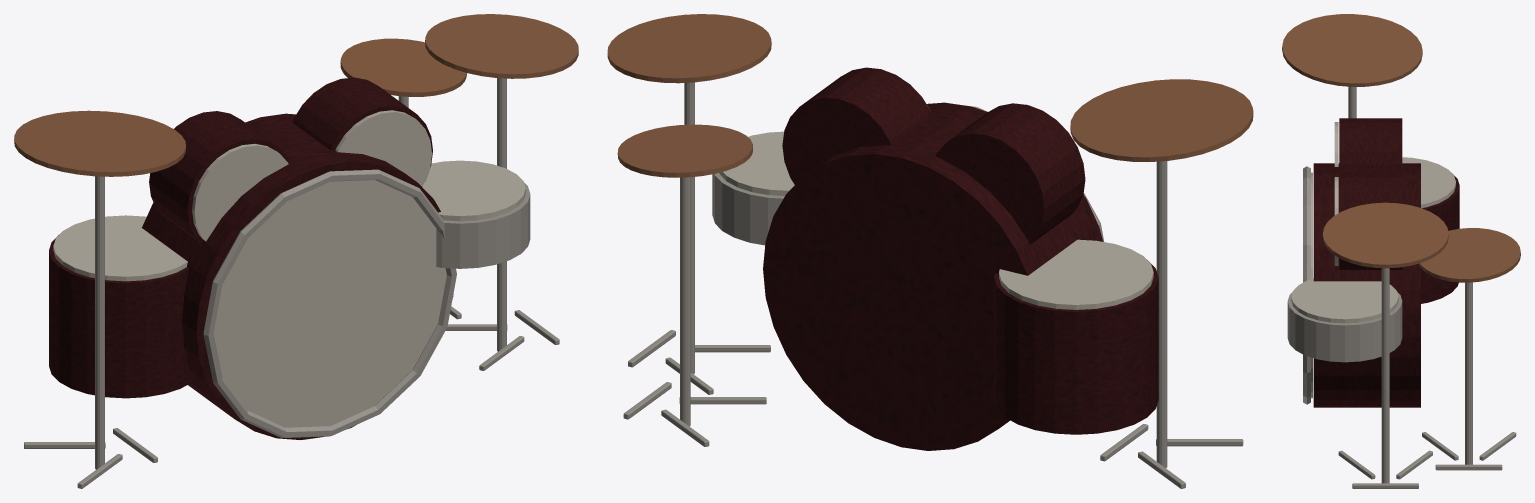
File: basement-drum-kit.glb
3 views of the same model, side by side, from view 1: azimuth 30°, elevation 25°; view 2: azimuth 150°, elevation 25°; view 3: azimuth 270°, elevation 25° (orthographic). The views are drawn at different scales.
Visible parts, largest first — view 1: SM_lonely_basement_drum_kit_Fabric_DirtyDrumHead, SM_lonely_basement_drum_kit_Metal_DrumBurgundy, SM_lonely_basement_drum_kit_Metal_OxidizedCopper, SM_lonely_basement_drum_kit_Metal_DullChrome; view 2: SM_lonely_basement_drum_kit_Metal_DrumBurgundy, SM_lonely_basement_drum_kit_Metal_OxidizedCopper, SM_lonely_basement_drum_kit_Metal_DullChrome, SM_lonely_basement_drum_kit_Fabric_DirtyDrumHead; view 3: SM_lonely_basement_drum_kit_Metal_OxidizedCopper, SM_lonely_basement_drum_kit_Metal_DrumBurgundy, SM_lonely_basement_drum_kit_Metal_DullChrome, SM_lonely_basement_drum_kit_Fabric_DirtyDrumHead.
Boxes of the visible parts, x1,y1,x2,y2 form: SM_lonely_basement_drum_kit_Fabric_DirtyDrumHead: (53,110,525,427); SM_lonely_basement_drum_kit_Metal_DrumBurgundy: (49,77,453,439); SM_lonely_basement_drum_kit_Metal_OxidizedCopper: (14,14,578,176); SM_lonely_basement_drum_kit_Metal_DullChrome: (24,78,559,488); SM_lonely_basement_drum_kit_Metal_DrumBurgundy: (763,67,1158,450); SM_lonely_basement_drum_kit_Metal_OxidizedCopper: (607,14,1253,177); SM_lonely_basement_drum_kit_Metal_DullChrome: (623,82,1243,488); SM_lonely_basement_drum_kit_Fabric_DirtyDrumHead: (719,86,1153,309); SM_lonely_basement_drum_kit_Metal_OxidizedCopper: (1282,14,1520,282); SM_lonely_basement_drum_kit_Metal_DrumBurgundy: (1313,118,1459,407); SM_lonely_basement_drum_kit_Metal_DullChrome: (1287,86,1516,488); SM_lonely_basement_drum_kit_Fabric_DirtyDrumHead: (1291,122,1455,398).
Bounding box in the file's own units: 2.87 × 1.62 × 1.29.
Materials: 4 (1 with a texture image).
